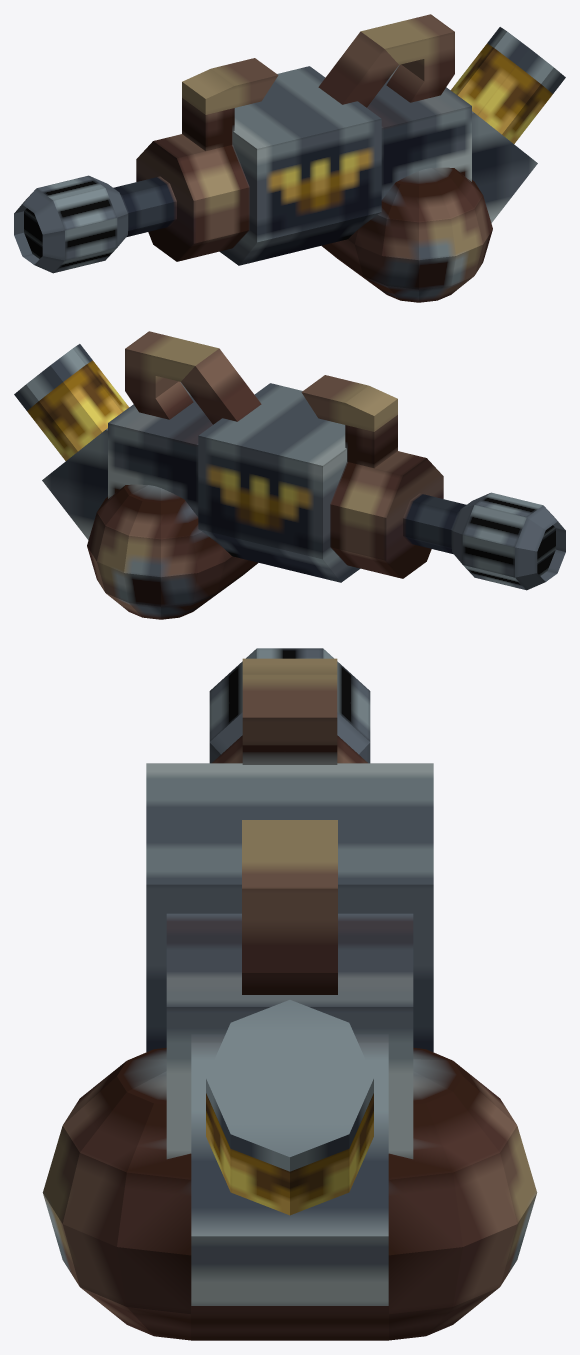
Rendered from TsarPoisonGunLight.fbx.
3 renders of one model, top to bottom at view 1: azimuth 30°, elevation 25°; view 2: azimuth 150°, elevation 25°; view 3: azimuth 270°, elevation 25°, orthographic. The views are drawn at different scales.
Visible parts, largest first — view 1: Cube; view 2: Cube; view 3: Cube.
Boxes of the visible parts, box(x1,y1,x2,y2) form: Cube: box(14, 14, 565, 302); Cube: box(14, 331, 565, 619); Cube: box(42, 648, 537, 1340).
Size of the model in its own units: 386 by 156 by 169.
